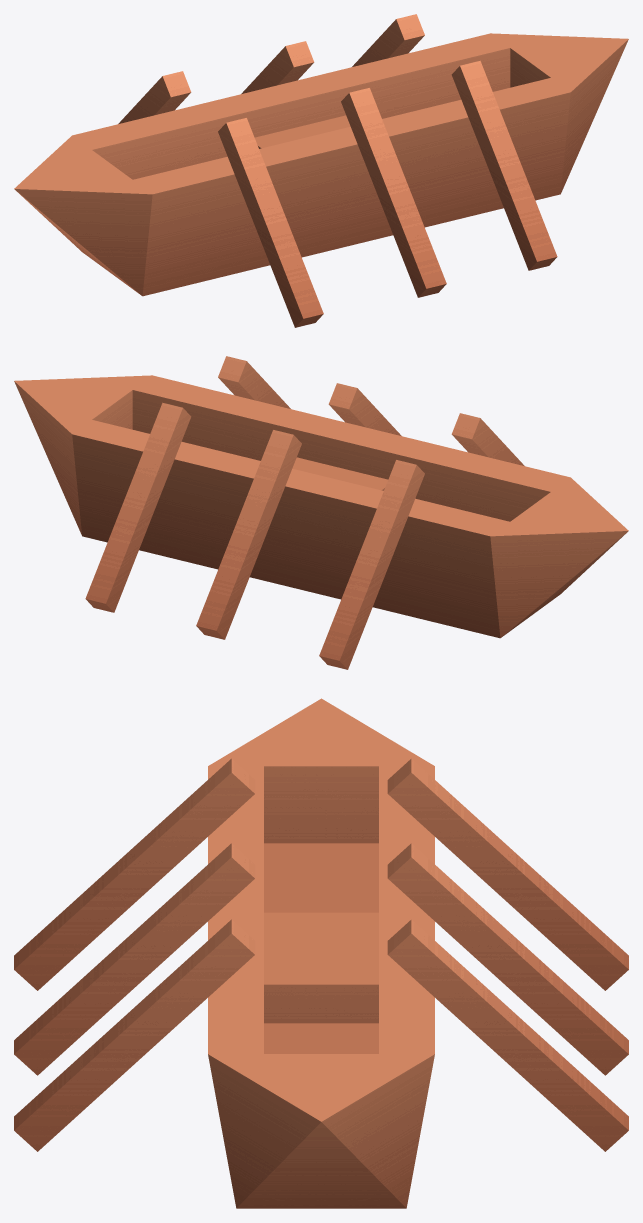
The model's file is hx_unit-ship.glb.
The picture shows the model from 3 angles, top to bottom: view 1: azimuth 30°, elevation 25°; view 2: azimuth 150°, elevation 25°; view 3: azimuth 270°, elevation 25°; orthographic projection. The views are drawn at different scales.
Bounding box in the file's own units: 0.645 × 0.1553 × 0.3959.
1 material, 1 textured.
